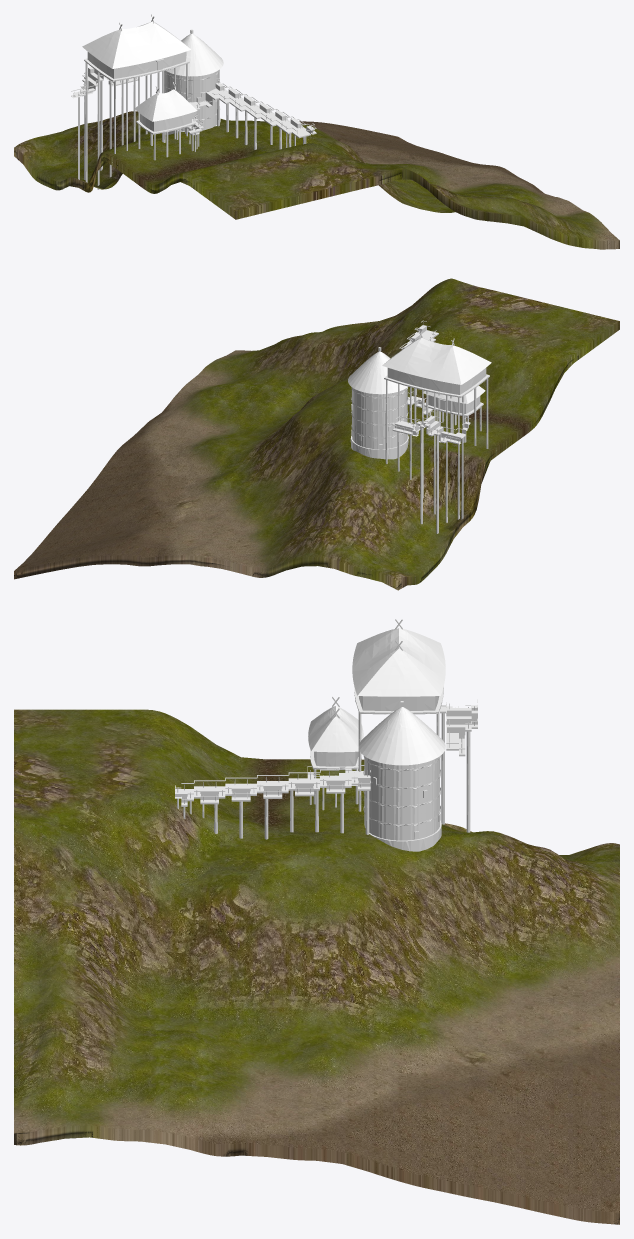
The model's file is chunk_4_2.glb.
The picture shows the model from 3 angles, top to bottom: view 1: azimuth 30°, elevation 25°; view 2: azimuth 150°, elevation 25°; view 3: azimuth 270°, elevation 25°; orthographic projection. The views are drawn at different scales.
Visible parts, largest first — view 1: Terrain_L2, Terrain_L0, Buildings_L0, Buildings_L1, Terrain_L1; view 2: Terrain_L2, Terrain_L0, Terrain_L1, Buildings_L0, Buildings_L1; view 3: Terrain_L2, Terrain_L0, Terrain_L1, Buildings_L0, Buildings_L1.
Boxes of the visible parts, box(x1,y1,x2,y2) form: Terrain_L2: box(14, 114, 619, 248); Terrain_L0: box(14, 111, 619, 249); Buildings_L0: box(71, 14, 316, 189); Buildings_L1: box(71, 22, 315, 189); Terrain_L1: box(14, 112, 612, 249); Terrain_L2: box(19, 281, 619, 589); Terrain_L0: box(14, 278, 619, 590); Terrain_L1: box(19, 279, 619, 589); Buildings_L0: box(350, 320, 488, 533); Buildings_L1: box(348, 325, 491, 533); Terrain_L2: box(14, 709, 619, 1223); Terrain_L0: box(14, 709, 619, 1224); Terrain_L1: box(14, 722, 619, 1224); Buildings_L0: box(175, 619, 477, 851); Buildings_L1: box(175, 628, 477, 851).
Size of the model in its own units: 96.5 by 64.11 by 96.
4 materials, 1 textured.
